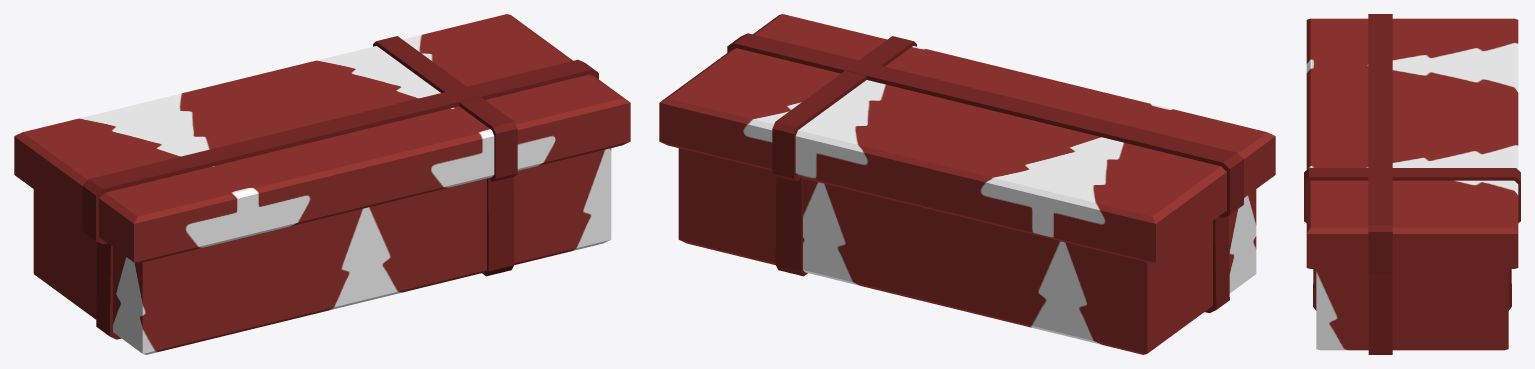
File: PresentBox_RectangularLong_01.fbx
3 renders of one model, left to right at view 1: azimuth 30°, elevation 25°; view 2: azimuth 150°, elevation 25°; view 3: azimuth 270°, elevation 25°, orthographic. The views are drawn at different scales.
Visible parts, largest first — view 1: PresentBox_RectangularLong_01_Top, PresentBox_RectangularLong_01; view 2: PresentBox_RectangularLong_01_Top, PresentBox_RectangularLong_01; view 3: PresentBox_RectangularLong_01_Top, PresentBox_RectangularLong_01.
Boxes of the visible parts, x1,y1,x2,y2 form: PresentBox_RectangularLong_01_Top: (14, 14, 630, 263); PresentBox_RectangularLong_01: (33, 148, 611, 354); PresentBox_RectangularLong_01_Top: (659, 14, 1275, 263); PresentBox_RectangularLong_01: (678, 148, 1256, 354); PresentBox_RectangularLong_01_Top: (1304, 14, 1520, 273); PresentBox_RectangularLong_01: (1313, 269, 1511, 354).
Size of the model in its own units: 0.4851 by 0.142 by 0.2051.
